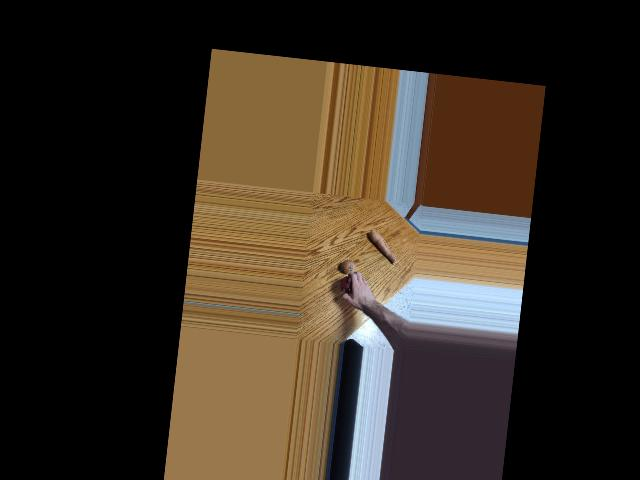onion: (339, 274, 357, 292)
